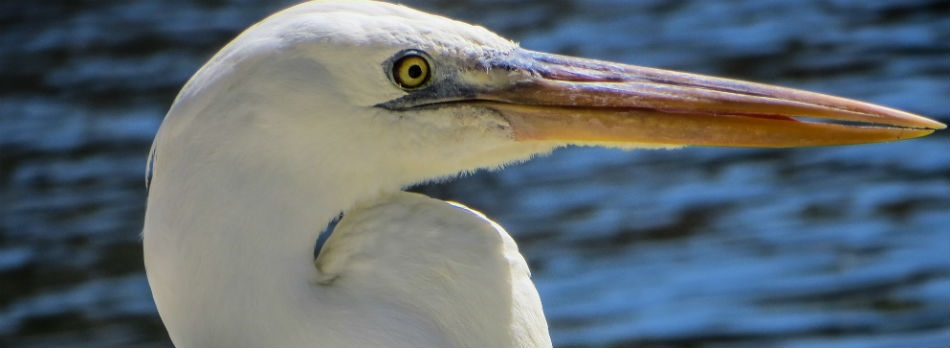heron: (143, 1, 950, 347)
